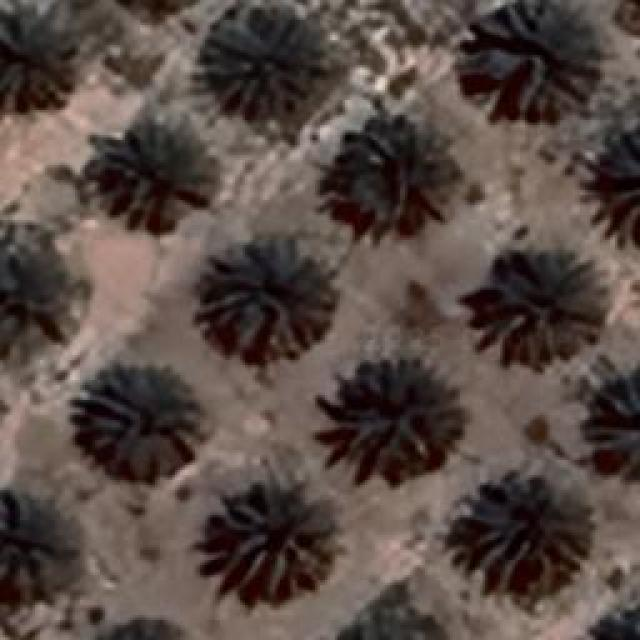PalmTree: (195, 232, 330, 366), (455, 465, 590, 590), (472, 245, 606, 368), (462, 0, 600, 118), (98, 105, 220, 230), (218, 478, 340, 600), (335, 120, 455, 238), (80, 368, 205, 480), (338, 358, 452, 480), (198, 9, 312, 122), (0, 225, 78, 358), (0, 480, 73, 606), (0, 0, 75, 105), (333, 592, 446, 640), (590, 378, 638, 482), (595, 132, 640, 238), (89, 614, 202, 640), (586, 592, 640, 640)
